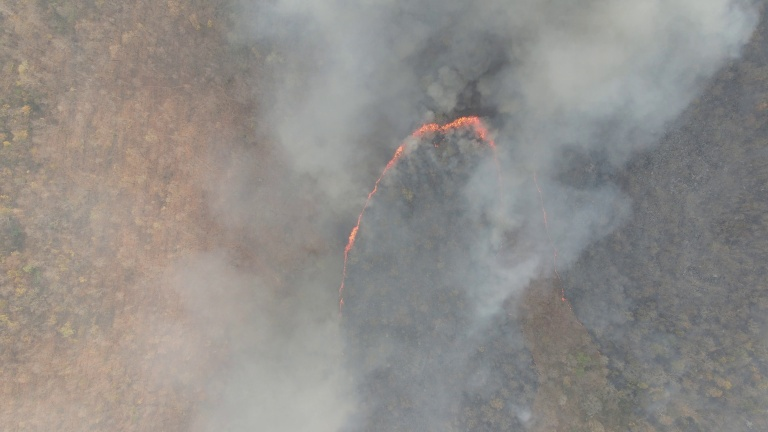fire: (336, 114, 505, 313), (524, 161, 568, 312)
smoke: (468, 1, 744, 320), (228, 1, 445, 205), (183, 272, 350, 422)
